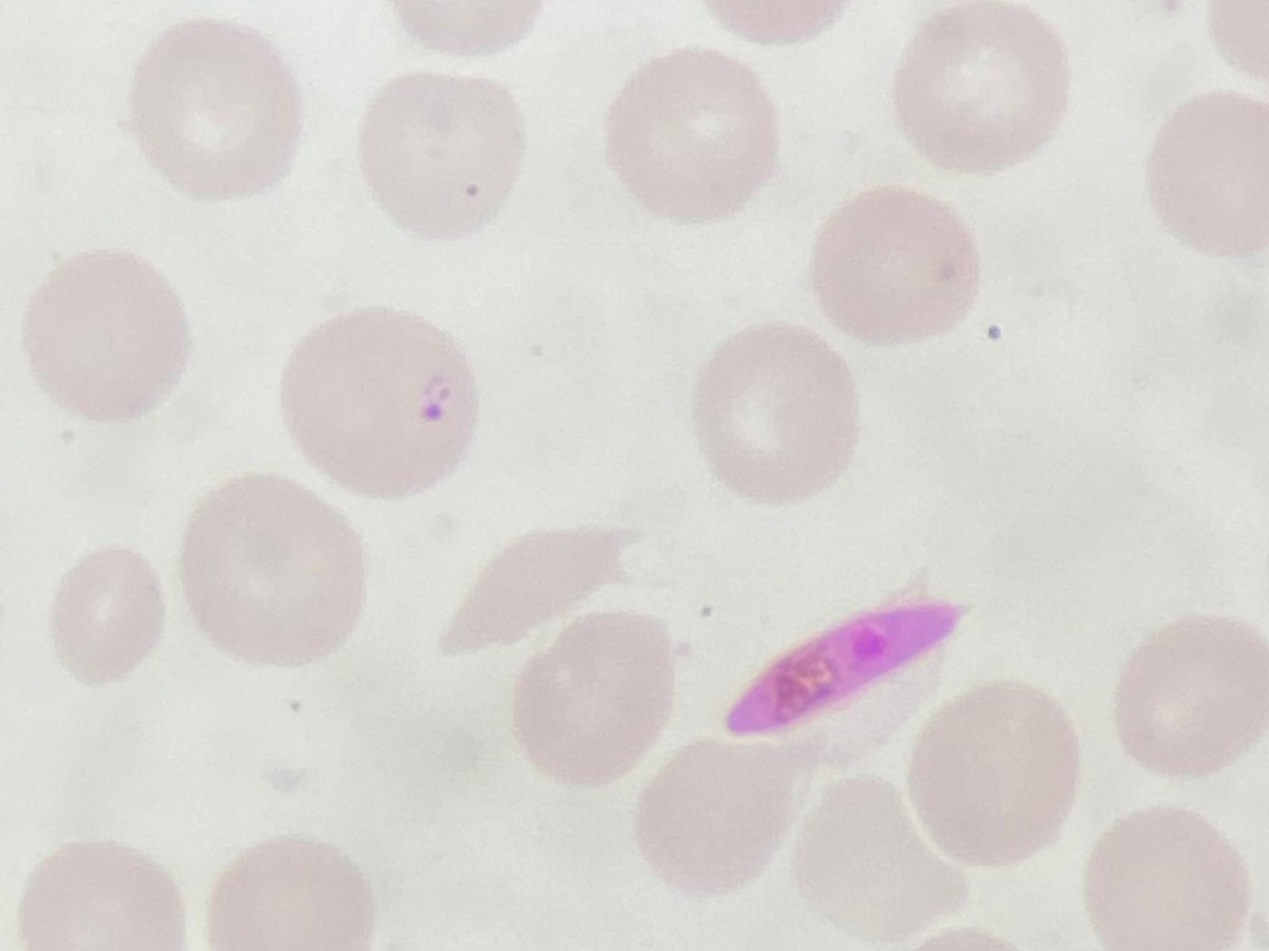Infected: (718, 598, 966, 747), (284, 309, 477, 499)
Uninfected: (177, 475, 366, 665), (125, 19, 301, 200), (909, 685, 1082, 864), (633, 735, 819, 897), (605, 49, 779, 222), (696, 325, 864, 503), (791, 775, 971, 941), (894, 2, 1069, 171), (22, 250, 190, 424), (510, 610, 675, 784), (358, 70, 525, 239), (436, 520, 646, 653), (810, 188, 981, 345), (1112, 616, 1269, 778), (1082, 808, 1249, 946), (1146, 91, 1269, 254), (205, 837, 371, 949), (48, 547, 166, 683)
